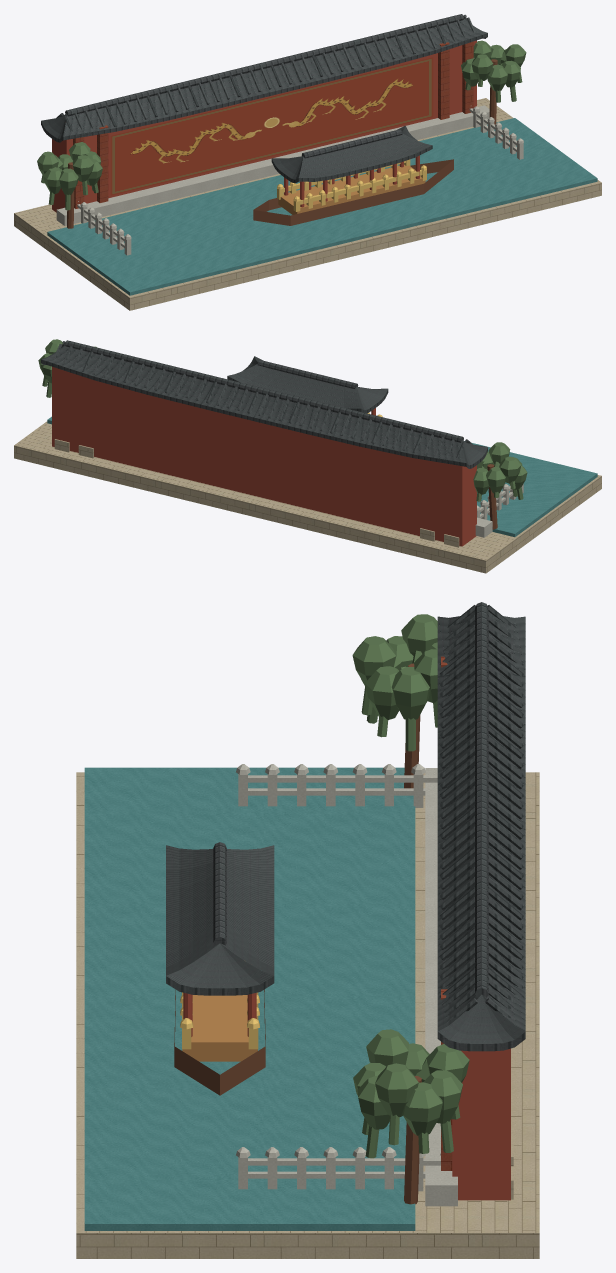
Rendered from qinhuai.glb.
The picture shows the model from 3 angles, top to bottom: view 1: azimuth 30°, elevation 25°; view 2: azimuth 150°, elevation 25°; view 3: azimuth 270°, elevation 25°; orthographic projection. The views are drawn at different scales.
Parts seen in each view (by area): view 1: 夫子庙秦淮风光带; view 2: 夫子庙秦淮风光带; view 3: 夫子庙秦淮风光带.
Part boxes in pixels (x1=…): 夫子庙秦淮风光带: x1=14, y1=14, x2=601, y2=310; 夫子庙秦淮风光带: x1=14, y1=339, x2=601, y2=573; 夫子庙秦淮风光带: x1=76, y1=602, x2=539, y2=1258.
Bounding box in the file's own units: 16.25 × 3.78 × 6.8.
11 materials, 6 textured.
